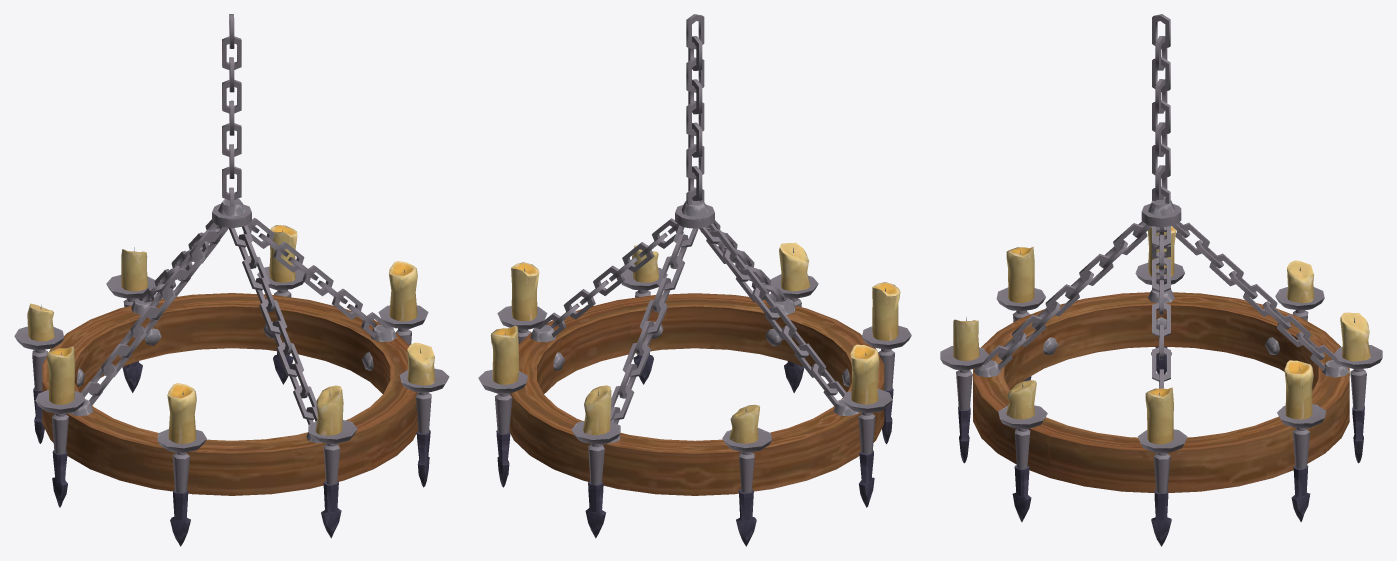
Rendered from chandelier.glb.
The picture shows the model from 3 angles, left to right: view 1: azimuth 30°, elevation 25°; view 2: azimuth 150°, elevation 25°; view 3: azimuth 270°, elevation 25°; orthographic projection.
Visible parts, largest first — view 1: Chandelier; view 2: Chandelier; view 3: Chandelier.
Part boxes in pixels (x1=…): Chandelier: x1=14, y1=14, x2=449, y2=546; Chandelier: x1=478, y1=14, x2=911, y2=546; Chandelier: x1=940, y1=14, x2=1382, y2=546.
Bounding box in the file's own units: 1.3 × 1.46 × 1.3.
Materials: 3 (3 with a texture image).
